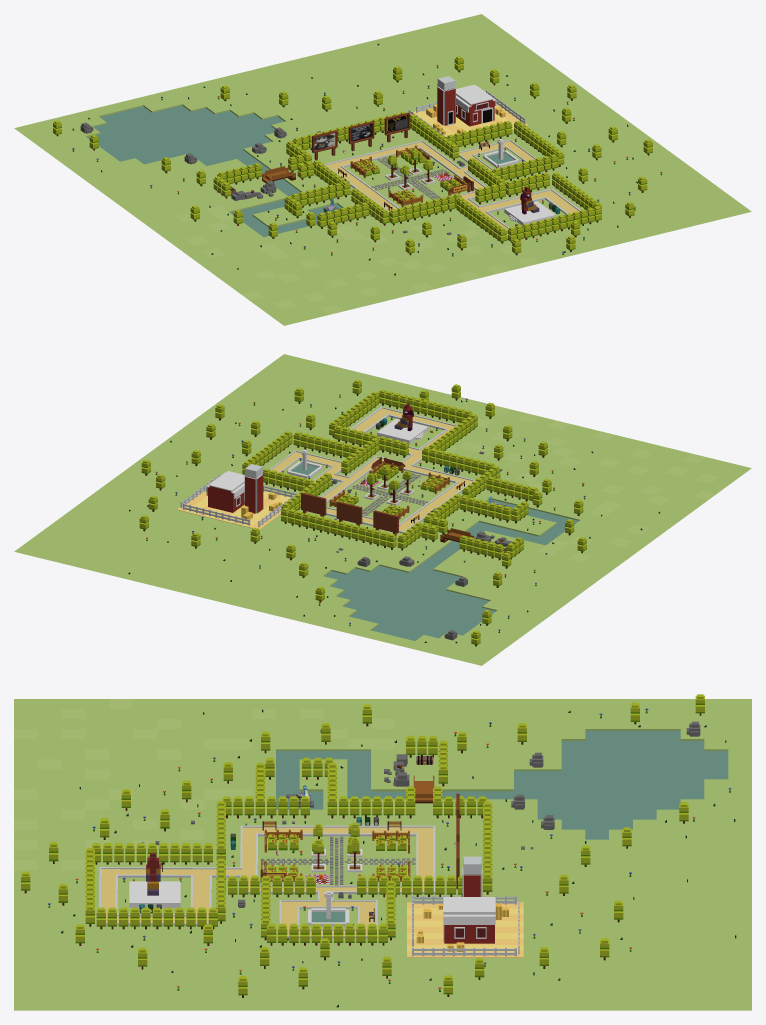
The model's file is proyectoth.glb.
The picture shows the model from 3 angles, top to bottom: view 1: azimuth 30°, elevation 25°; view 2: azimuth 150°, elevation 25°; view 3: azimuth 270°, elevation 25°; orthographic projection. The views are drawn at different scales.
Visible parts, largest first — view 1: level, path, tree.015, tree.011, tree.002, tree.001, windmill, tree.014, stones, tree.005, tree.003, tree.019 (+14 smaller); view 2: level, path, tree.006, tree.015, stones, tree.011, farm fences, tree.001, windmill, tree.018, tree.013, tree.019 (+12 smaller); view 3: level, path, stones, tree.013, tree.003, tree.014, tree.005, tree.008, tree.009, ceiling, tree.004, farm fences (+14 smaller).
Part boxes in pixels (x1,y1,x2,y2): level: [14, 14, 751, 325]; path: [324, 139, 580, 240]; tree.015: [507, 206, 601, 242]; tree.011: [389, 193, 461, 225]; tree.002: [446, 120, 512, 147]; tree.001: [492, 154, 558, 180]; windmill: [437, 76, 455, 125]; tree.014: [456, 197, 506, 243]; stones: [410, 104, 528, 136]; tree.005: [410, 114, 458, 160]; tree.003: [514, 120, 564, 166]; tree.019: [317, 202, 369, 228]; level: [14, 354, 751, 665]; path: [270, 406, 474, 533]; tree.006: [281, 507, 396, 549]; tree.015: [378, 389, 472, 422]; stones: [177, 490, 290, 529]; tree.011: [422, 447, 495, 475]; farm fences: [180, 474, 297, 527]; tree.001: [293, 431, 359, 457]; windmill: [244, 464, 263, 513]; tree.018: [460, 496, 511, 522]; tree.013: [329, 391, 379, 437]; tree.019: [486, 476, 538, 502]; level: [14, 699, 751, 1010]; path: [99, 825, 435, 938]; stones: [407, 902, 523, 957]; tree.013: [96, 907, 217, 929]; tree.003: [267, 923, 387, 945]; tree.014: [91, 843, 212, 864]; tree.005: [357, 875, 462, 897]; tree.008: [327, 796, 415, 818]; tree.009: [222, 796, 309, 818]; ceiling: [443, 897, 495, 924]; tree.004: [228, 875, 315, 897]; farm fences: [412, 895, 519, 956].
Size of the model in its own units: 318 by 29.03 by 318.
Materials: 80 (3 with a texture image).
